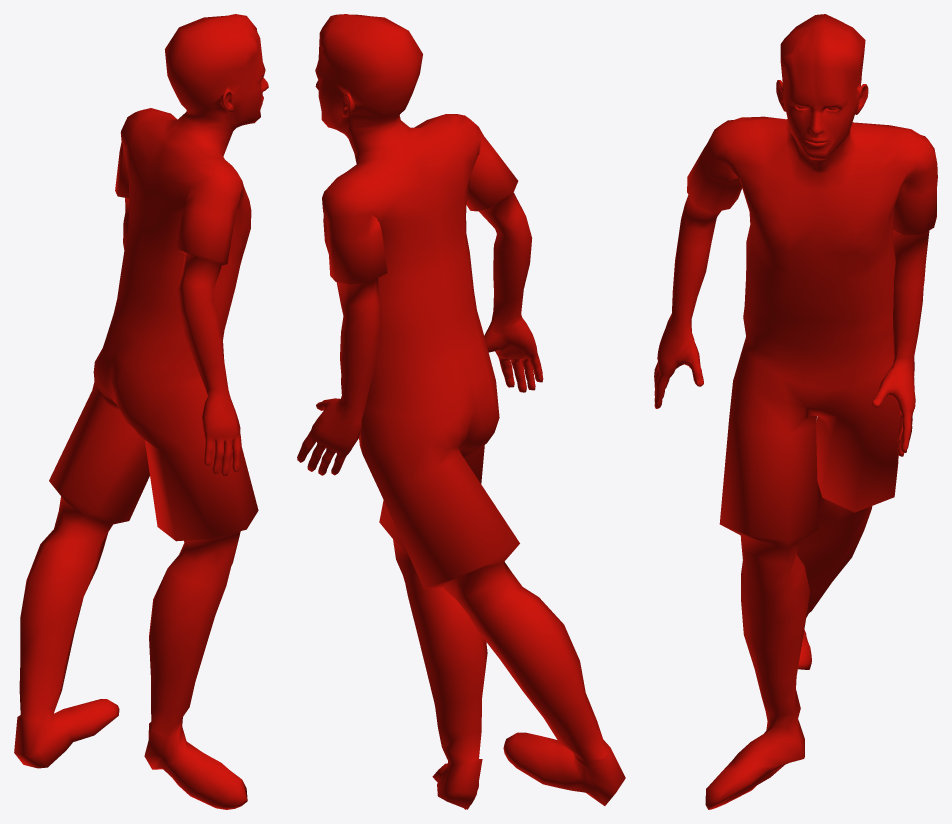
File: player_000047.obj
3 views of the same model, side by side, from view 1: azimuth 30°, elevation 25°; view 2: azimuth 150°, elevation 25°; view 3: azimuth 270°, elevation 25° (orthographic). The views are drawn at different scales.
Visible parts, largest first — view 1: soccerplayer.002_mesh.003; view 2: soccerplayer.002_mesh.003; view 3: soccerplayer.002_mesh.003.
Boxes of the visible parts, bbox=[...] form: soccerplayer.002_mesh.003: bbox=[14, 14, 268, 809]; soccerplayer.002_mesh.003: bbox=[297, 14, 625, 809]; soccerplayer.002_mesh.003: bbox=[654, 14, 937, 809].
Bounding box in the file's own units: 1.12 × 3 × 0.9609.
